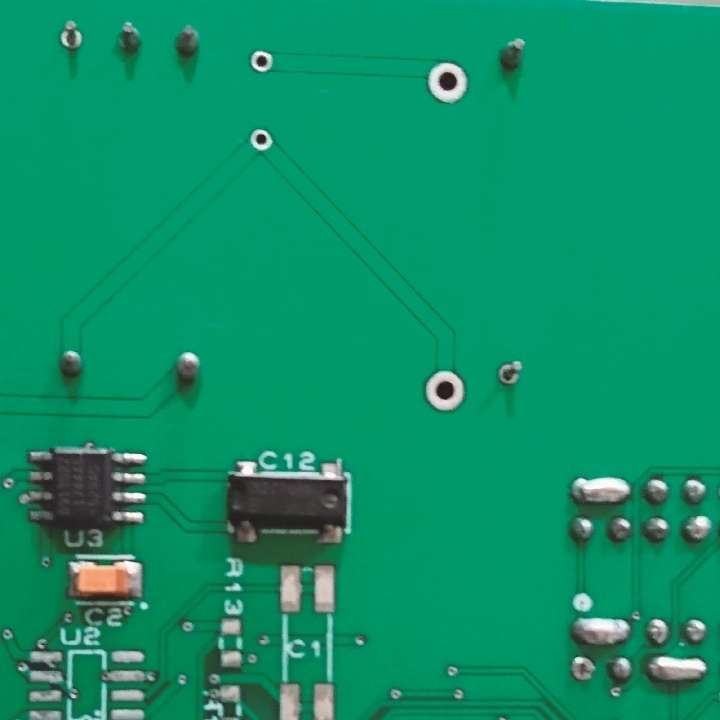F: (420, 58, 469, 110), (424, 368, 471, 415), (496, 355, 526, 388), (247, 48, 277, 80), (57, 21, 87, 52), (570, 652, 596, 685), (249, 125, 274, 155)
P: (569, 610, 632, 646), (647, 649, 707, 686), (568, 472, 630, 506)
